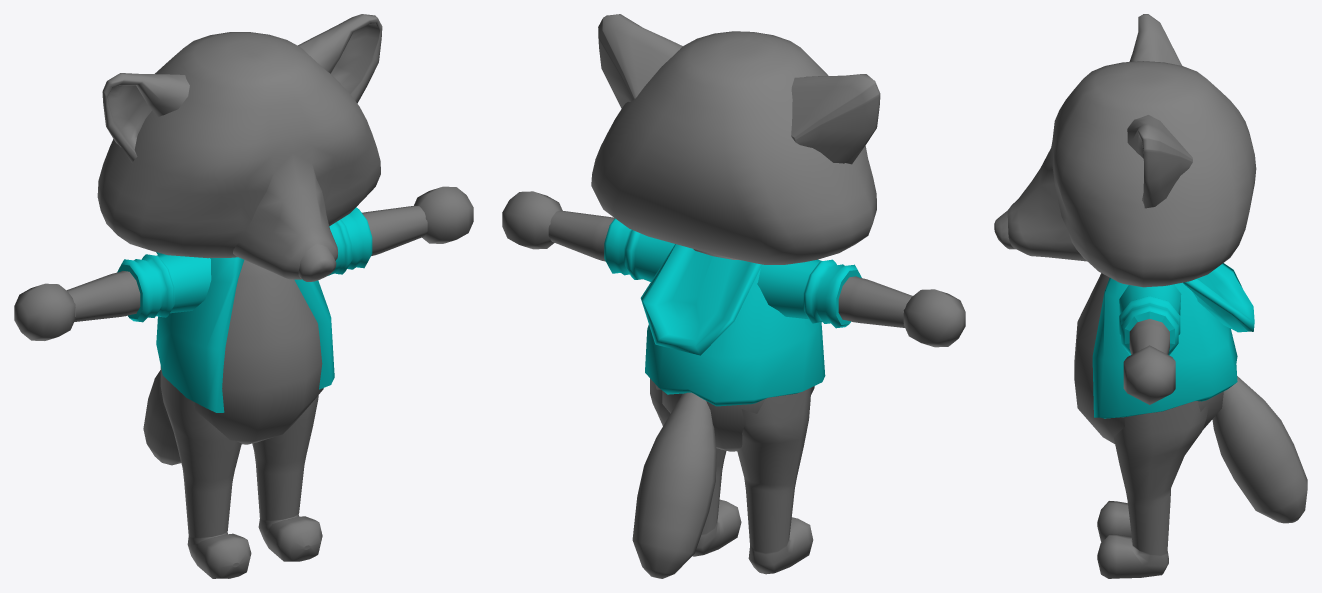
Rendered from Raccoon_UVed.fbx.
3 views of the same model, side by side, from view 1: azimuth 30°, elevation 25°; view 2: azimuth 150°, elevation 25°; view 3: azimuth 270°, elevation 25° (orthographic). The views are drawn at different scales.
Visible parts, largest first — view 1: Head_geo7, body_geo, Jacket, r_leg_geo, l_leg_geo, R_Ear_geo, R_jacket_Arm, L_Ear_geo, r_hand_geo, r_arm_geo, l_hand_geo, l_arm_geo (+2 smaller); view 2: Head_geo7, Jacket, Tail_geo, r_leg_geo, Hood, R_Ear_geo, R_jacket_Arm, L_Ear_geo, r_hand_geo, r_arm_geo, L_Jacket_Arm, l_hand_geo (+3 smaller); view 3: Head_geo7, l_leg_geo, Jacket, Tail_geo, body_geo, L_Ear_geo, L_Jacket_Arm, Hood, l_hand_geo, R_Ear_geo, l_arm_geo, r_leg_geo.
Part boxes in pixels (<box>): Head_geo7: <box>97,32,380,281</box>; body_geo: <box>194,260,323,444</box>; Jacket: <box>156,257,334,412</box>; r_leg_geo: <box>160,366,251,578</box>; l_leg_geo: <box>252,395,322,561</box>; R_Ear_geo: <box>102,73,189,163</box>; R_jacket_Arm: <box>117,253,211,322</box>; L_Ear_geo: <box>298,14,382,103</box>; r_hand_geo: <box>14,283,75,340</box>; r_arm_geo: <box>67,271,140,321</box>; l_hand_geo: <box>414,186,473,243</box>; l_arm_geo: <box>362,205,427,255</box>; Head_geo7: <box>591,31,876,264</box>; Jacket: <box>645,268,825,406</box>; Tail_geo: <box>632,392,716,578</box>; r_leg_geo: <box>737,388,813,574</box>; Hood: <box>640,244,761,355</box>; R_Ear_geo: <box>791,74,880,164</box>; R_jacket_Arm: <box>757,259,861,328</box>; L_Ear_geo: <box>598,14,682,108</box>; r_hand_geo: <box>903,289,965,347</box>; r_arm_geo: <box>838,276,912,327</box>; L_Jacket_Arm: <box>604,218,674,281</box>; l_hand_geo: <box>502,191,562,249</box>; Head_geo7: <box>994,61,1256,287</box>; l_leg_geo: <box>1097,401,1209,578</box>; Jacket: <box>1092,278,1237,418</box>; Tail_geo: <box>1212,376,1307,523</box>; body_geo: <box>1074,273,1223,443</box>; L_Ear_geo: <box>1127,115,1192,208</box>; L_Jacket_Arm: <box>1119,284,1181,355</box>; Hood: <box>1183,263,1254,332</box>; l_hand_geo: <box>1123,345,1175,404</box>; R_Ear_geo: <box>1129,14,1182,65</box>; l_arm_geo: <box>1129,319,1169,354</box>; r_leg_geo: <box>1097,501,1168,541</box>.
Bounding box in the file's own units: 7.05 × 7.59 × 4.46.
